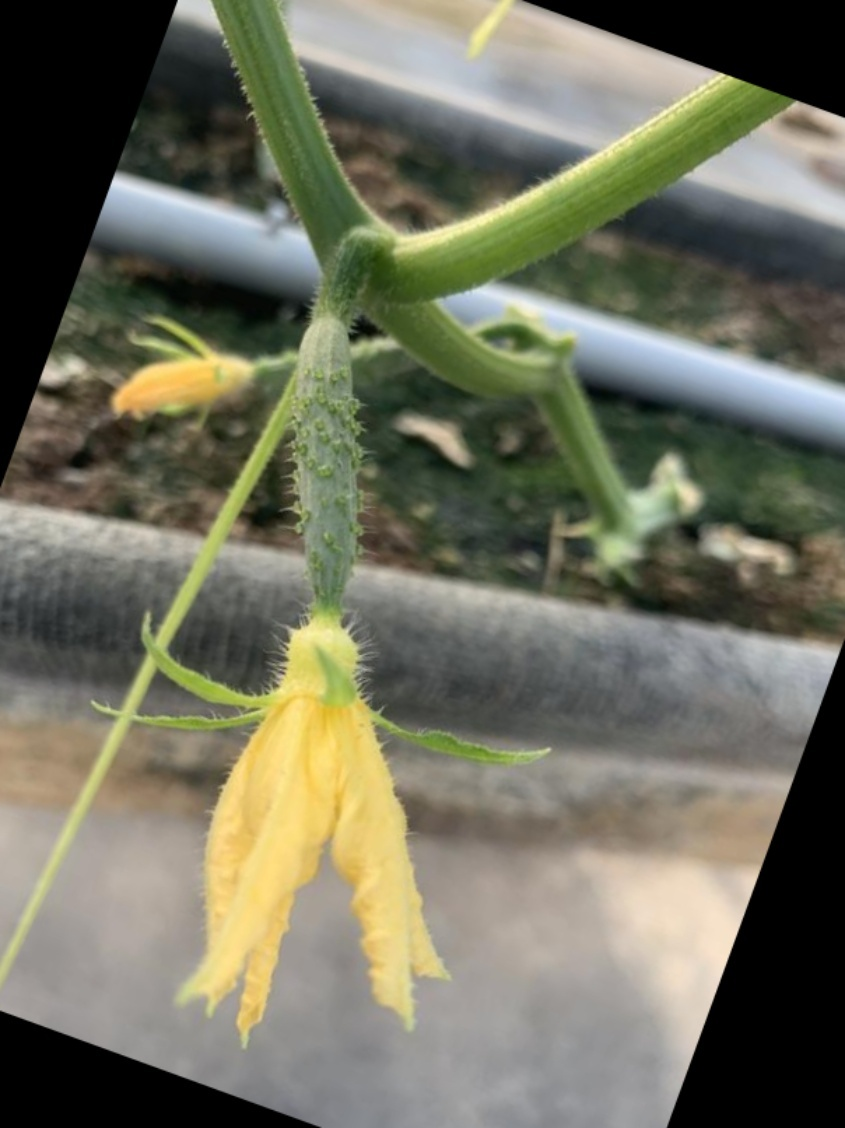bear: (208, 300, 458, 1031)
